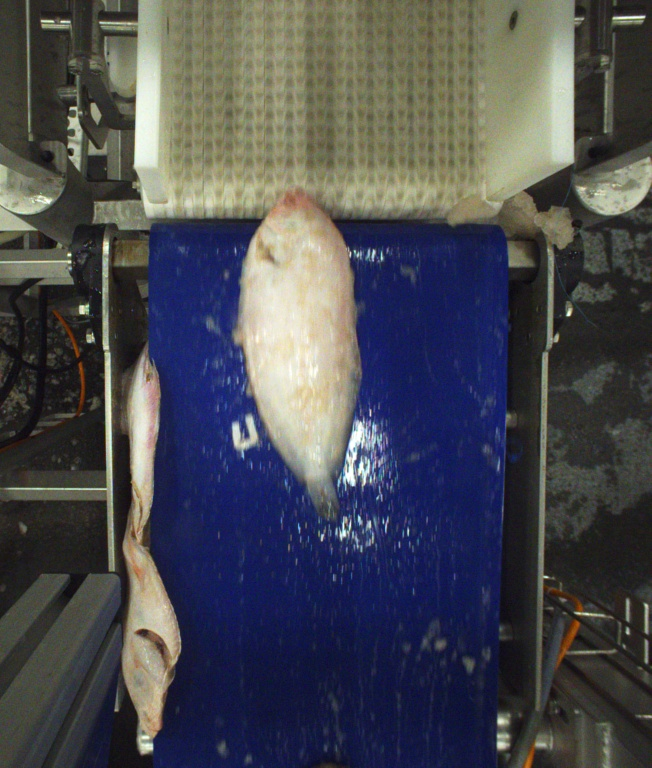SOL: (233, 184, 361, 529)
